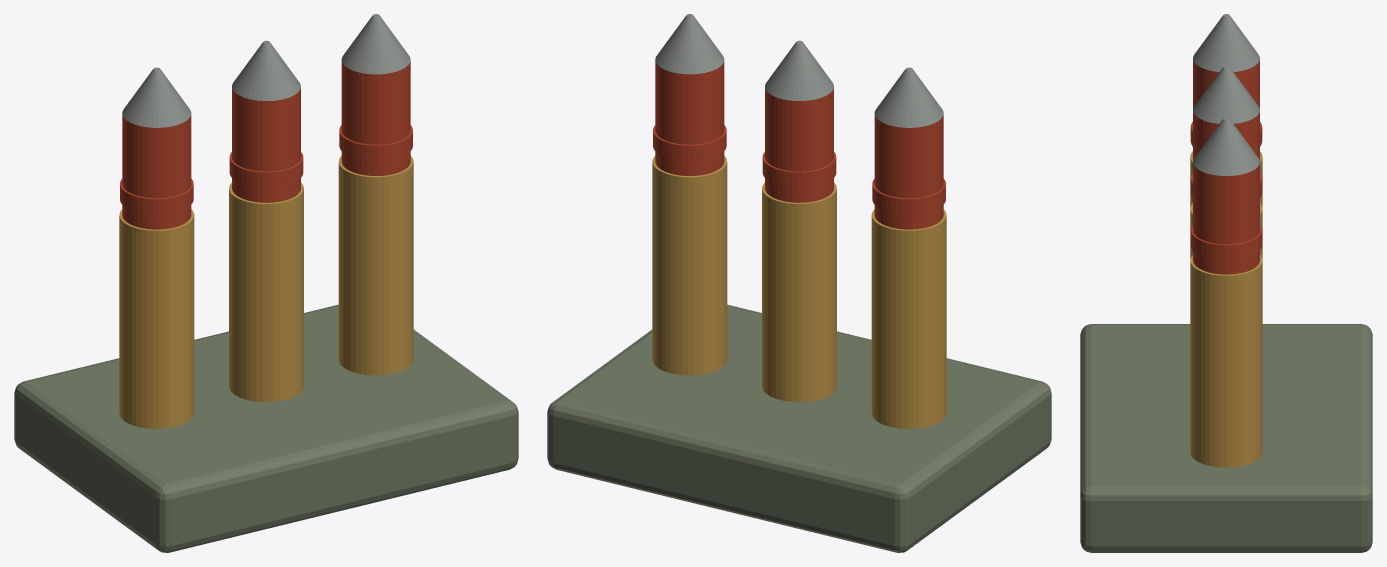
The model's file is ammo_2.glb.
3 renders of one model, left to right at view 1: azimuth 30°, elevation 25°; view 2: azimuth 150°, elevation 25°; view 3: azimuth 270°, elevation 25°, orthographic. The views are drawn at different scales.
Parts seen in each view (by area): view 1: ammo_2; view 2: ammo_2; view 3: ammo_2.
Part boxes in pixels (left/top/right/bottom): ammo_2: left=14, top=14, right=518, bottom=552; ammo_2: left=547, top=14, right=1051, bottom=552; ammo_2: left=1080, top=14, right=1372, bottom=552.
Bounding box in the file's own units: 1.45 × 1.6 × 1.05.
